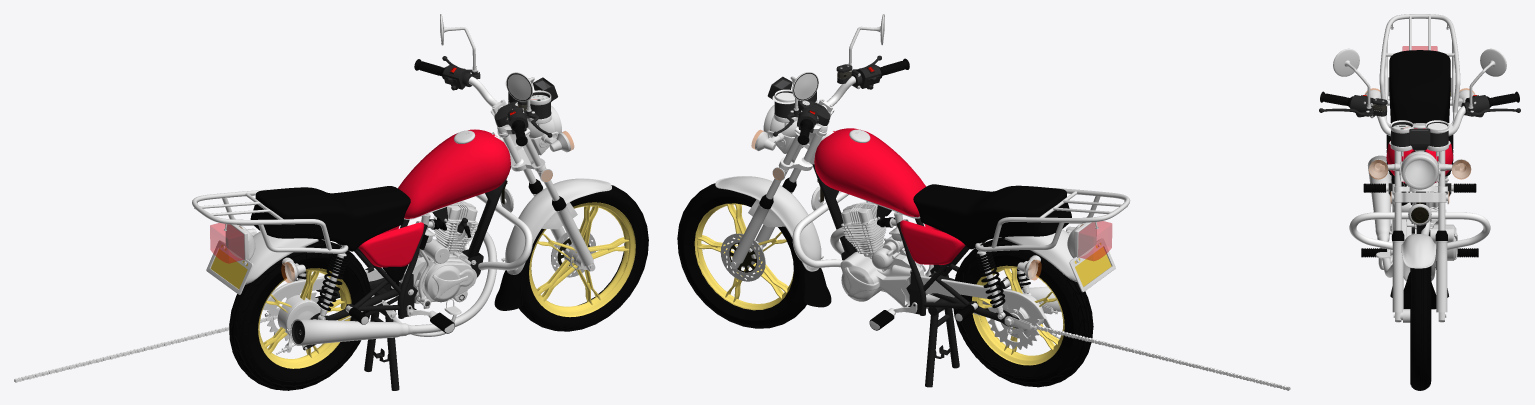
Rendered from motorcycle.glb.
The picture shows the model from 3 angles, left to right: view 1: azimuth 30°, elevation 25°; view 2: azimuth 150°, elevation 25°; view 3: azimuth 270°, elevation 25°; orthographic projection. The views are drawn at different scales.
Parts seen in each view (by area): view 1: Cylinder.034, Cube.017, Cube.020, Cylinder.024, Cube.027, NurbsPath.004, Cylinder.032, Torus.002, Cube.004, Cube.022, Cylinder.007, BezierCurve.002 (+24 smaller); view 2: Cylinder.034, Cube.017, Cube.020, Cylinder.024, Cube.027, NurbsPath.004, Cylinder.115, Cube.022, Cylinder.007, Cube.046, Torus.004, Cube.048 (+22 smaller); view 3: Cube.017, Cylinder.007, Cylinder.024, NurbsPath.004, BezierCurve.005, Cube.027, Cylinder.118, Cone.001, Cylinder.066, Cylinder.032, Cylinder.016, Cylinder.065 (+17 smaller).
Part boxes in pixels (box(x1,y1,x2,y2)): Cylinder.034: box(229, 239, 371, 390); Cube.017: box(250, 186, 410, 251); Cube.020: box(398, 129, 510, 219); Cylinder.024: box(519, 185, 648, 331); Cube.027: box(505, 178, 611, 274); NurbsPath.004: box(192, 189, 348, 253); Cylinder.032: box(290, 319, 412, 345); Torus.002: box(529, 202, 635, 317); Cube.004: box(537, 205, 629, 304); Cube.022: box(358, 222, 424, 267); Cylinder.007: box(523, 136, 595, 271); BezierCurve.002: box(324, 219, 427, 318); Cylinder.034: box(953, 237, 1093, 387); Cube.017: box(913, 184, 1071, 249); Cube.020: box(814, 128, 926, 218); Cylinder.024: box(677, 183, 806, 328); Cube.027: box(715, 176, 821, 271); NurbsPath.004: box(975, 188, 1130, 251); Cylinder.115: box(840, 251, 911, 307); Cube.022: box(900, 220, 965, 264); Cylinder.007: box(730, 135, 801, 268); Cube.046: box(841, 202, 886, 254); Torus.004: box(972, 265, 1064, 365); Cube.048: box(907, 273, 1046, 319); Cube.017: box(1389, 50, 1450, 123); Cylinder.007: box(1392, 150, 1447, 322); Cylinder.024: box(1410, 266, 1431, 390); NurbsPath.004: box(1379, 14, 1460, 127); BezierCurve.005: box(1349, 212, 1490, 249); Cube.027: box(1401, 234, 1436, 281); Cylinder.118: box(1390, 120, 1449, 156); Cone.001: box(1401, 151, 1438, 189); Cylinder.066: box(1333, 48, 1506, 76); Cylinder.032: box(1367, 155, 1391, 241); Cylinder.016: box(1368, 159, 1471, 179); Cylinder.065: box(1350, 95, 1489, 117).
Size of the model in its own units: 11.45 by 5.47 by 3.41.
43 materials, 2 textured.
